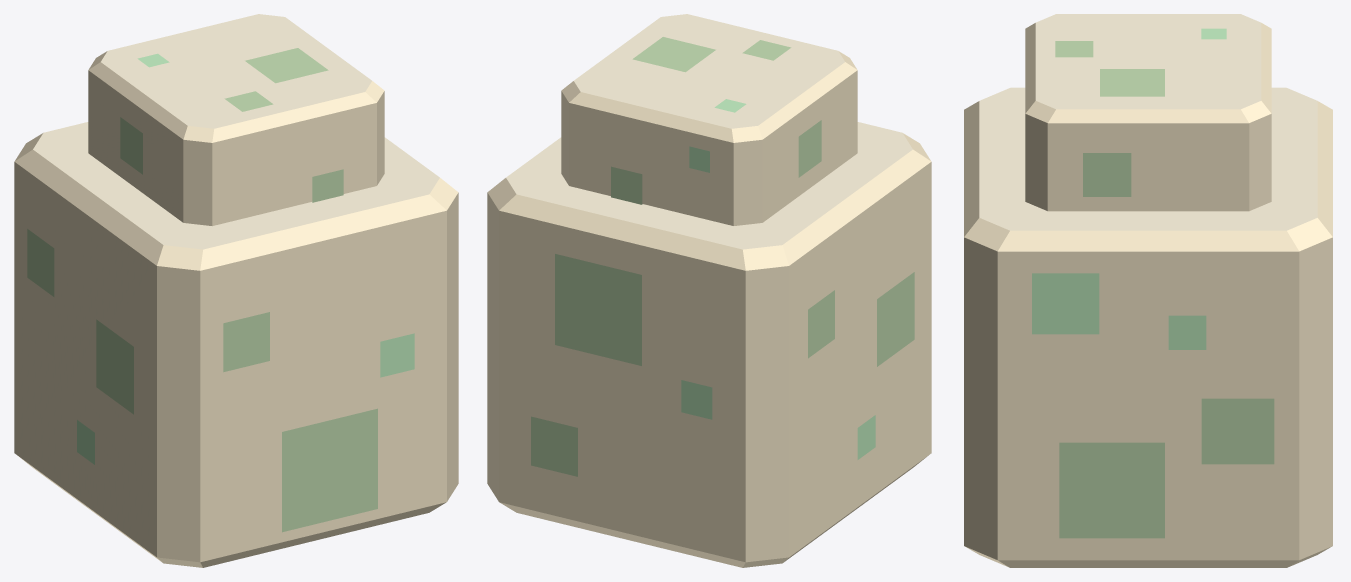
Rendered from Egg.obj.
3 renders of one model, left to right at view 1: azimuth 30°, elevation 25°; view 2: azimuth 150°, elevation 25°; view 3: azimuth 270°, elevation 25°, orthographic. The views are drawn at different scales.
Visible parts, largest first — view 1: Egg; view 2: Egg; view 3: Egg.
Part boxes in pixels (x1,y1,x2,y2): Egg: (14, 14, 458, 567); Egg: (487, 14, 931, 567); Egg: (964, 14, 1332, 567).
Bounding box in the file's own units: 1.87 × 2.4 × 1.87.
